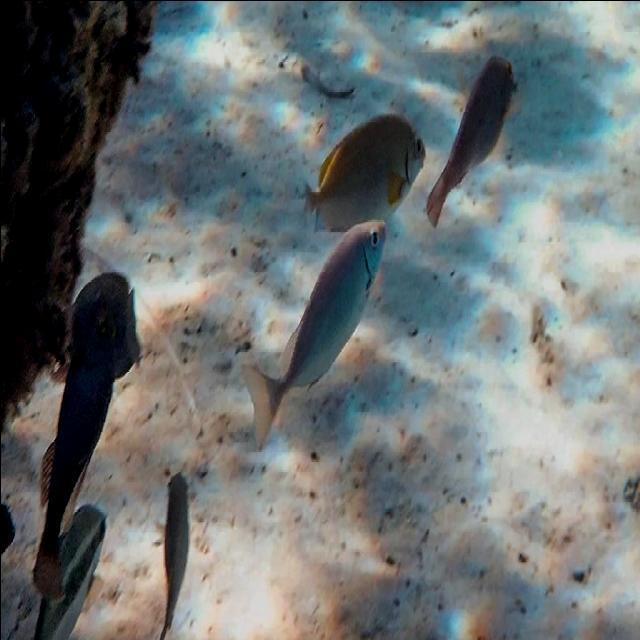Sokar Baligi: (240, 200, 401, 469), (420, 42, 535, 240)
